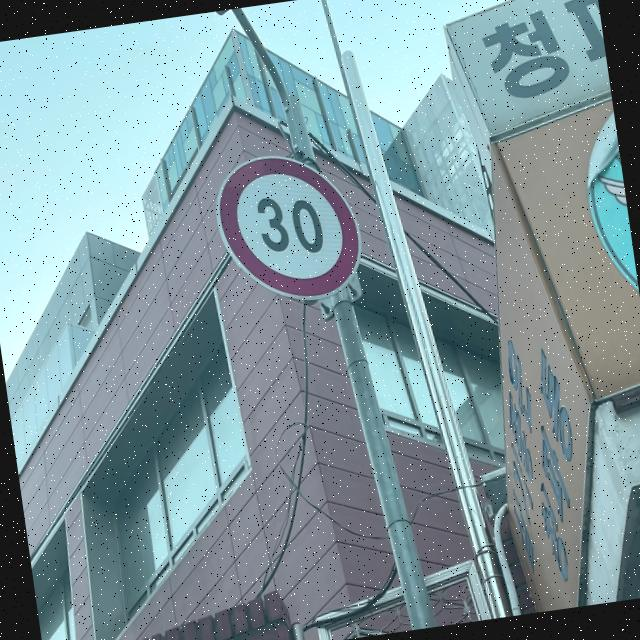Ograniczenie predkosci do 30: (208, 144, 368, 314)
